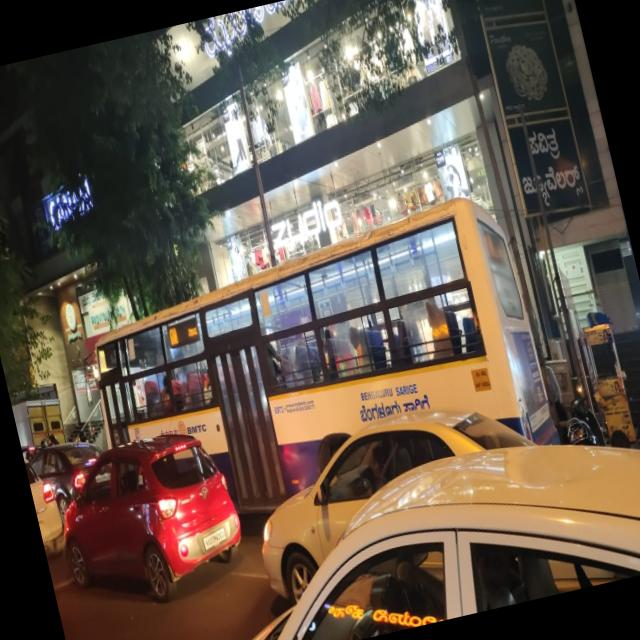bus: (54, 156, 570, 560)
display: (164, 316, 202, 350)
dnumber: (167, 326, 180, 348)
